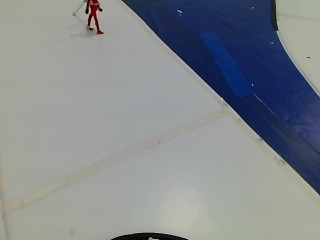pedestrian: (76, 0, 109, 41)
